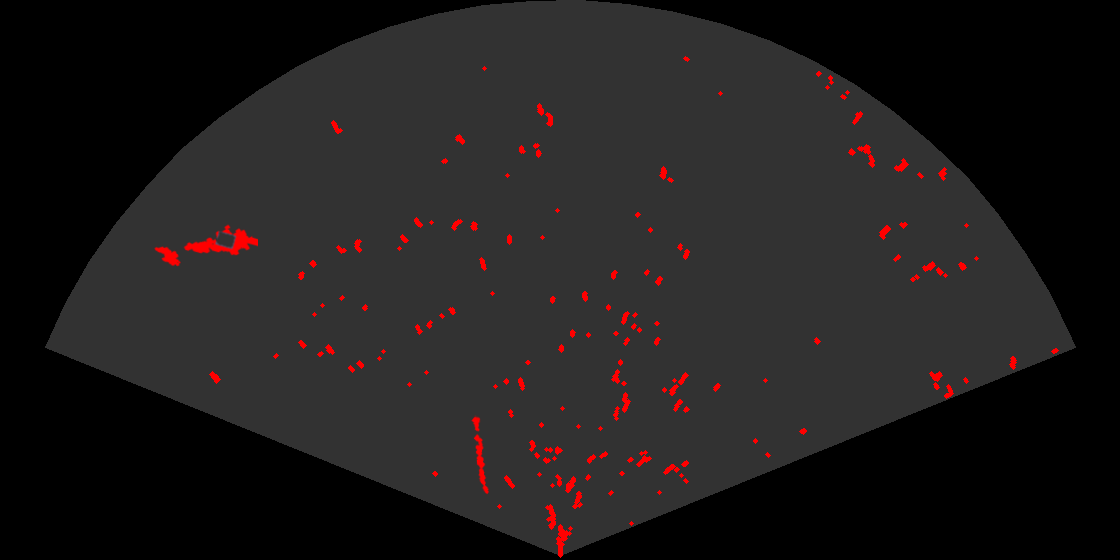AUV: (153, 245, 182, 268)
chain: (470, 415, 490, 496)
frogman: (182, 223, 258, 257)
